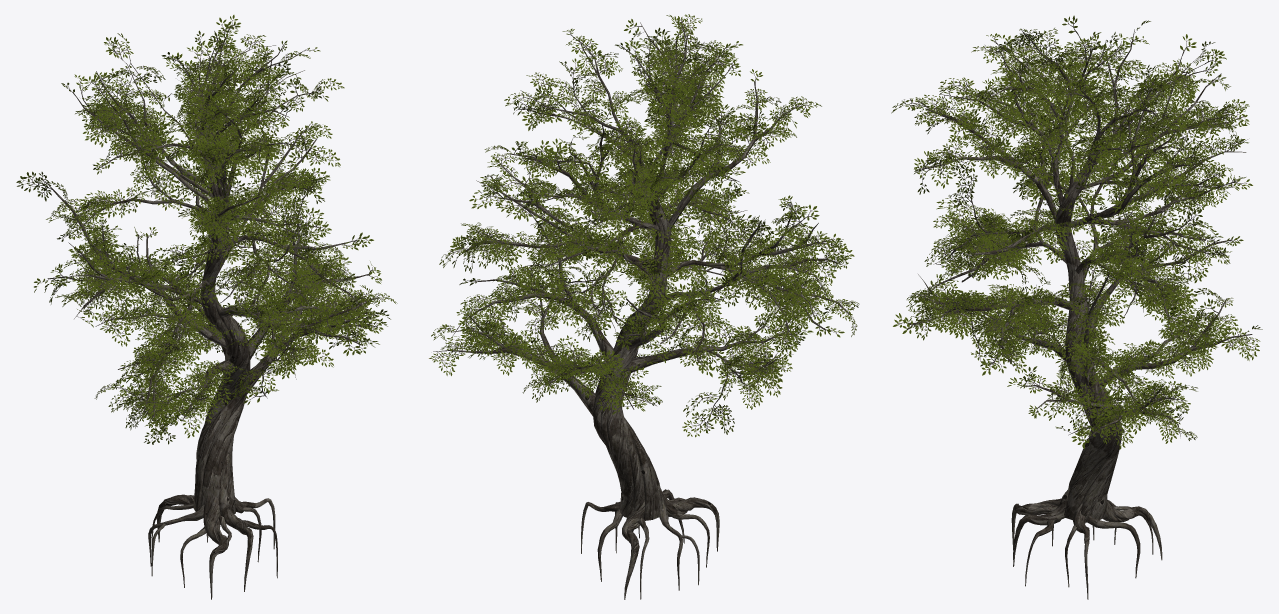
The model's file is Tree1-3-Leaves.fbx.
The picture shows the model from 3 angles, left to right: view 1: azimuth 30°, elevation 25°; view 2: azimuth 150°, elevation 25°; view 3: azimuth 270°, elevation 25°; orthographic projection. The views are drawn at different scales.
Visible parts, largest first — view 1: Tree1-3-Leaves_LOD0; view 2: Tree1-3-Leaves_LOD0; view 3: Tree1-3-Leaves_LOD0.
Part boxes in pixels (left/top/right/bottom): Tree1-3-Leaves_LOD0: left=16, top=15, right=397, bottom=599; Tree1-3-Leaves_LOD0: left=429, top=14, right=859, bottom=599; Tree1-3-Leaves_LOD0: left=891, top=15, right=1262, bottom=599.
Size of what is drawn, in the model's own units: 10.21 by 9.05 by 14.64.
